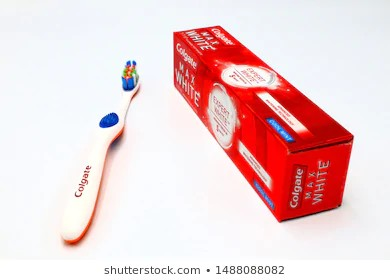toothbrush: (56, 51, 146, 253)
